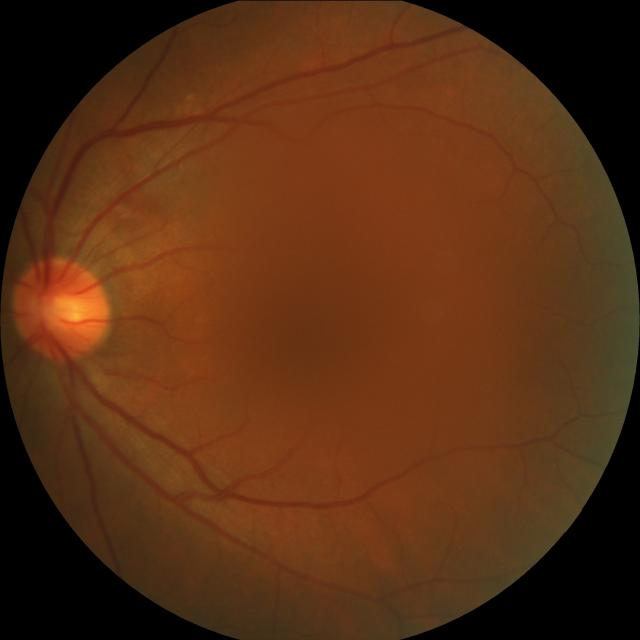OC: (35, 282, 82, 336)
OD: (12, 256, 108, 362)
